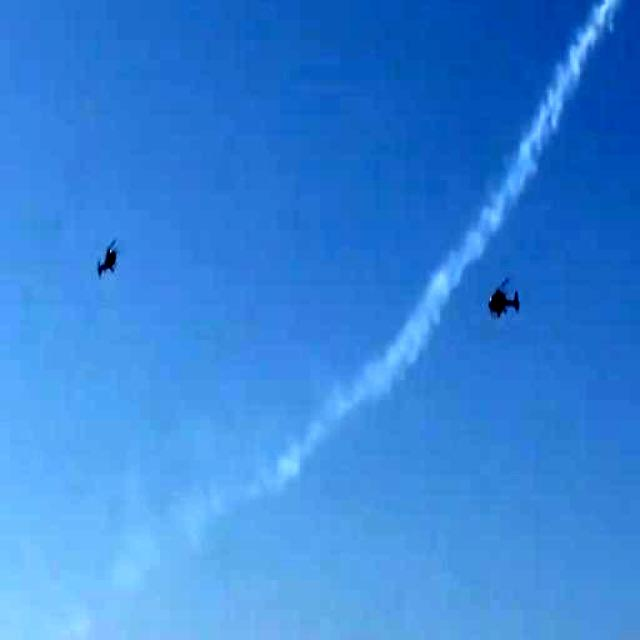drone: (482, 268, 528, 321), (90, 226, 124, 291)
